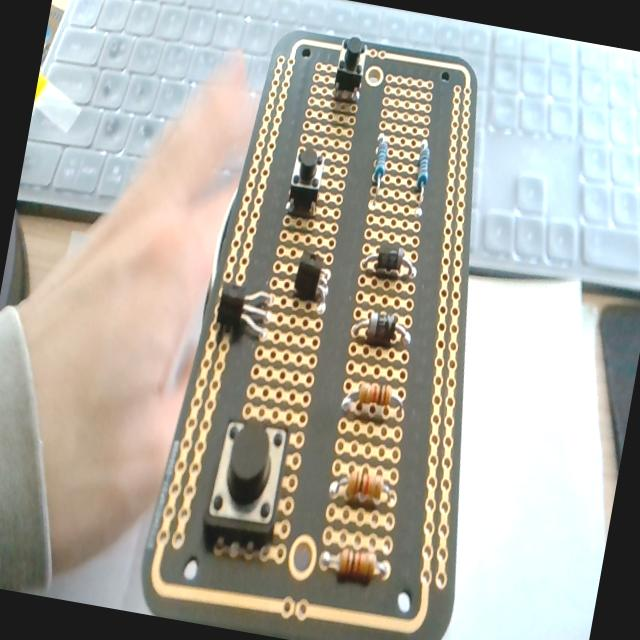diode: (352, 309, 414, 350), (360, 240, 420, 282)
resistor: (328, 464, 397, 510), (340, 378, 407, 424), (320, 542, 388, 586), (408, 139, 434, 217), (365, 132, 391, 209)
switch: (204, 412, 291, 536), (284, 142, 327, 219), (331, 34, 369, 102)
transistor: (211, 278, 276, 339), (290, 247, 336, 308)
